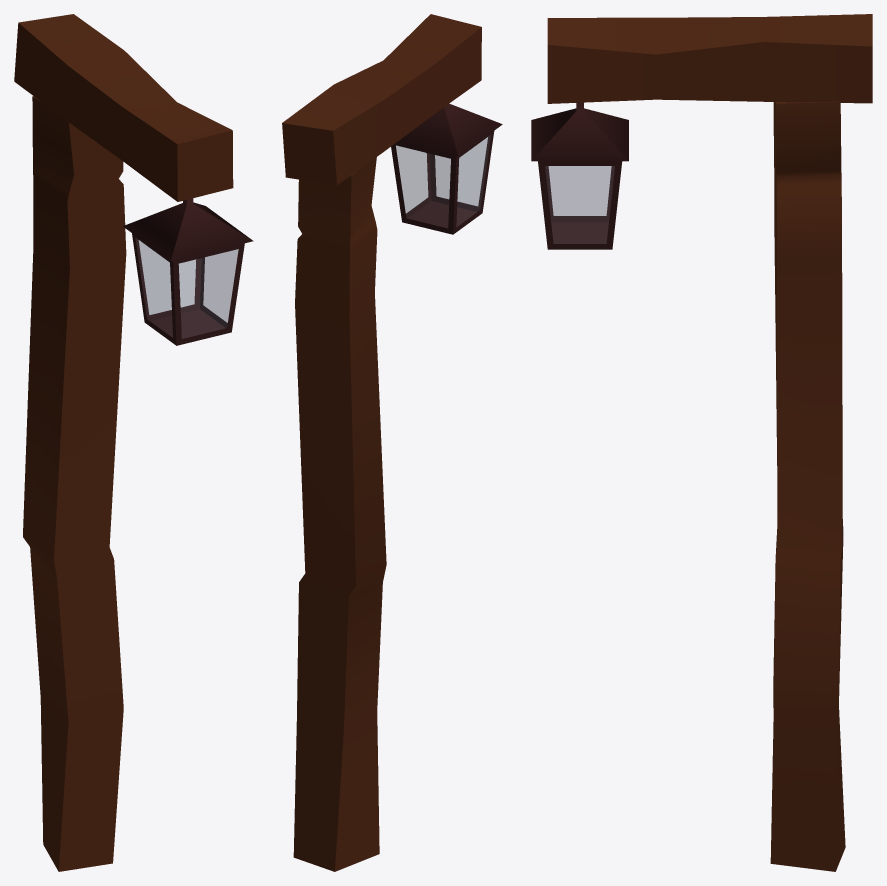
Rendered from LightPole.fbx.
3 renders of one model, left to right at view 1: azimuth 30°, elevation 25°; view 2: azimuth 150°, elevation 25°; view 3: azimuth 270°, elevation 25°, orthographic. The views are drawn at different scales.
Visible parts, largest first — view 1: Box001, Box002, Box003; view 2: Box001, Box002, Box003; view 3: Box001, Box002, Box003.
Part boxes in pixels (x1,y1,x2,y2): Box001: [23, 96, 126, 871]; Box002: [14, 14, 233, 201]; Box003: [123, 198, 253, 345]; Box001: [293, 157, 386, 871]; Box002: [282, 14, 481, 185]; Box003: [391, 103, 502, 234]; Box001: [770, 101, 845, 871]; Box002: [547, 14, 872, 103]; Box003: [531, 102, 628, 249].
Size of the model in its own units: 30 by 281 by 105.
